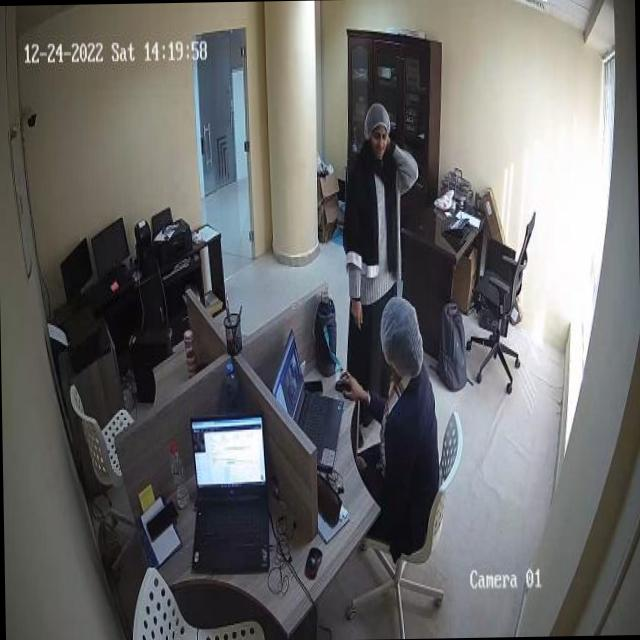hairnet: (381, 298, 420, 372), (363, 104, 390, 145)
